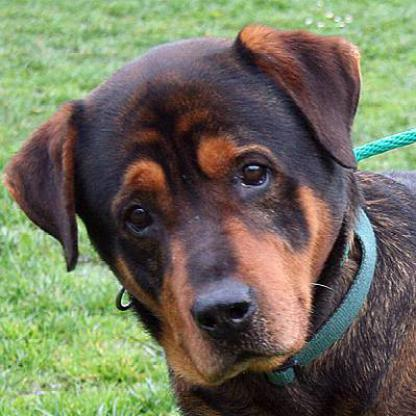dog: (16, 41, 384, 386)
